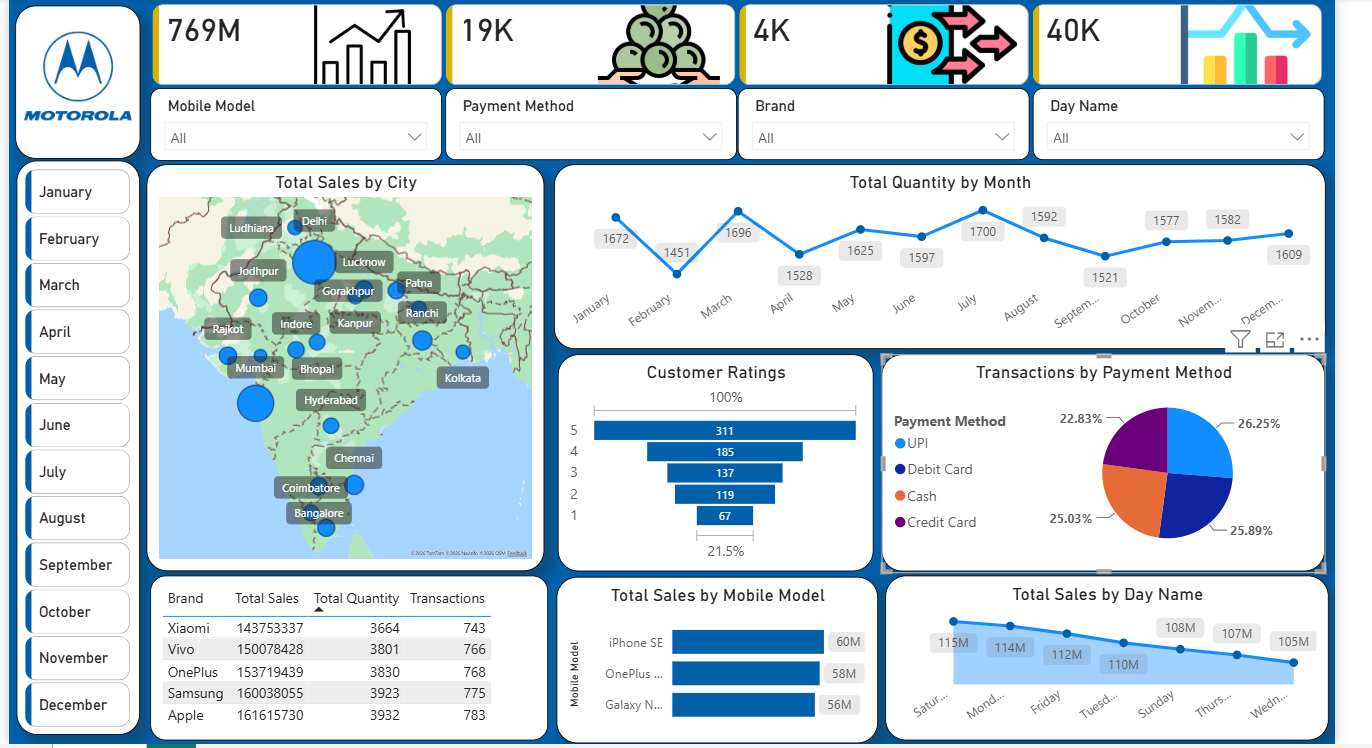

Layout of this report page (visuals, bound fields, positions):
{"tool":"powerbi","page":{"name":"Page 1","canvas":[1280,720],"ordinal":0},"visuals":[{"type":"shape","box":[0,116.6,112.5,603.8],"z":0},{"type":"shape","box":[0,0,112.5,126.2],"z":1000},{"type":"image","box":[16.5,22,76.8,74.1],"z":2000},{"type":"advancedSlicerVisual","fields":{"Values":["Sheet1.Date.Variation.Date Hierarchy.Month"]},"box":[16.5,137.2,78.2,573.6],"z":3000},{"type":"cardVisual","fields":{"Data":["Mobile Phone Sales.Total_Sales","Mobile Phone Sales.Total_Quantity","Mobile Phone Sales.ot_Transaction","Mobile Phone Sales.Avg_Price"]},"box":[111.3,0,1159,109.9],"z":4000},{"type":"azureMap","fields":{"Category":["Mobile Phone Sales.City"],"Size":["Mobile Phone Sales.Total_Sales"]},"box":[111,178.6,398.1,372.8],"z":5000},{"type":"lineChart","fields":{"Y":["Mobile Phone Sales.Total_Quantity"],"Category":["Mobile Phone Sales.Date.Variation.Date Hierarchy.Month","Mobile Phone Sales.Date.Variation.Date Hierarchy.Day"]},"box":[517.6,178.6,752.8,126.7],"z":6000},{"type":"barChart","title":"Total Sales By Mobile Model","fields":{"Category":["Mobile Phone Sales.Mobile Model"],"Y":["Mobile Phone Sales.Total_Sales"]},"box":[513,557.1,352.3,159.3],"z":7000},{"type":"pieChart","title":"Transaction By Payment Method","fields":{"Y":["Mobile Phone Sales.Transaction"],"Category":["Mobile Phone Sales.Payment Method"]},"box":[869.4,314.6,398.1,238.9],"z":8000},{"type":"funnel","title":"Cutomer Ratings","fields":{"Category":["Mobile Phone Sales.Customer Ratings"],"Y":["CountNonNull(Mobile Phone Sales.Customer Ratings)"]},"box":[517.1,314.6,346.2,238.9],"z":9000},{"type":"areaChart","title":"Total Sales By Mobile Model","fields":{"Y":["Mobile Phone Sales.Total_Sales"],"Category":["Mobile Phone Sales.Day Name"]},"box":[871.3,557.1,398.1,159.3],"z":10000},{"type":"tableEx","fields":{"Values":["Mobile Phone Sales.Brand","Mobile Phone Sales.Total_Sales","Mobile Phone Sales.Total_Quantity","Mobile Phone Sales.Transaction"]},"box":[111.2,557.1,398.1,159.3],"z":11000},{"type":"slicer","fields":{"Values":["Mobile Phone Sales.Mobile Model"]},"box":[112.7,109.9,293.6,64],"z":12000},{"type":"slicer","fields":{"Values":["Mobile Phone Sales.Payment Method"]},"box":[410.4,109.9,285.2,64],"z":13000},{"type":"slicer","fields":{"Values":["Mobile Phone Sales.Brand"]},"box":[699.8,109.9,285.2,64],"z":14000},{"type":"slicer","fields":{"Values":["Mobile Phone Sales.Day Name"]},"box":[994.8,109.9,274.1,64],"z":15000}]}

Visuals, with their boxes in screenshot pixels (x1, y1, x2, y2):
shape: [left=14, top=89, right=138, bottom=747]
shape: [left=14, top=0, right=138, bottom=99]
image: [left=32, top=0, right=117, bottom=66]
advancedSlicerVisual - Sheet1.Date.Variation.Date Hierarchy.Month: [left=32, top=112, right=118, bottom=742]
cardVisual - Mobile Phone Sales.Total_Sales x Mobile Phone Sales.Total_Quantity: [left=137, top=0, right=1371, bottom=82]
azureMap - Mobile Phone Sales.City x Mobile Phone Sales.Total_Sales: [left=136, top=157, right=574, bottom=567]
lineChart - Mobile Phone Sales.Total_Quantity x Mobile Phone Sales.Date.Variation.Date Hierarchy.Month: [left=583, top=157, right=1371, bottom=296]
"Total Sales By Mobile Model" barChart: [left=578, top=573, right=966, bottom=747]
"Transaction By Payment Method" pieChart: [left=970, top=307, right=1371, bottom=569]
"Cutomer Ratings" funnel: [left=583, top=307, right=963, bottom=569]
"Total Sales By Mobile Model" areaChart: [left=972, top=573, right=1371, bottom=747]
tableEx - Mobile Phone Sales.Brand x Mobile Phone Sales.Total_Sales: [left=137, top=573, right=574, bottom=747]
slicer - Mobile Phone Sales.Mobile Model: [left=138, top=82, right=461, bottom=152]
slicer - Mobile Phone Sales.Payment Method: [left=465, top=82, right=779, bottom=152]
slicer - Mobile Phone Sales.Brand: [left=784, top=82, right=1097, bottom=152]
slicer - Mobile Phone Sales.Day Name: [left=1108, top=82, right=1371, bottom=152]
